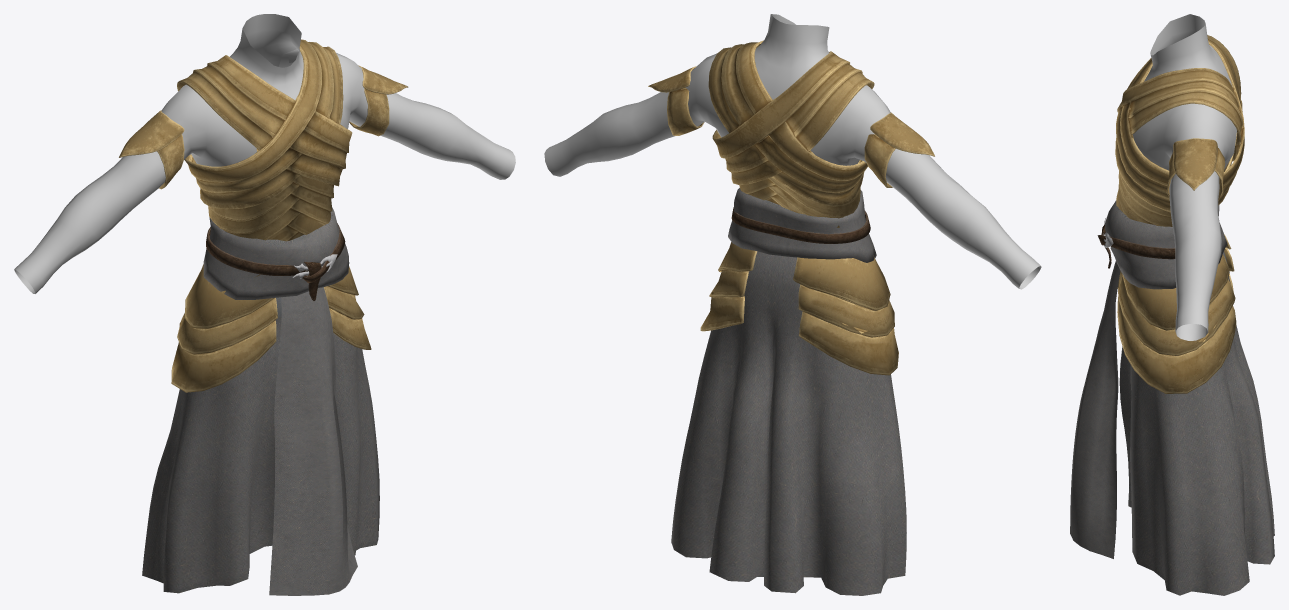
Rendered from rivendell_torso_infantry_tier2.fbx.
The picture shows the model from 3 angles, left to right: view 1: azimuth 30°, elevation 25°; view 2: azimuth 150°, elevation 25°; view 3: azimuth 270°, elevation 25°; orthographic projection. The views are drawn at different scales.
Visible parts, largest first — view 1: rivendell_torso_infantry_tier2.1, rivendell_torso_infantry_tier2.4, rivendell_torso_infantry_tier2.5, rivendell_torso_infantry_tier2.2, rivendell_torso_infantry_tier2.3, rivendell_torso_infantry_tier2.0; view 2: rivendell_torso_infantry_tier2.1, rivendell_torso_infantry_tier2.5, rivendell_torso_infantry_tier2.2, rivendell_torso_infantry_tier2.3, rivendell_torso_infantry_tier2.4, rivendell_torso_infantry_tier2.0; view 3: rivendell_torso_infantry_tier2.1, rivendell_torso_infantry_tier2.4, rivendell_torso_infantry_tier2.5, rivendell_torso_infantry_tier2.2, rivendell_torso_infantry_tier2.3, rivendell_torso_infantry_tier2.0.
Boxes of the visible parts, <box> form: rivendell_torso_infantry_tier2.1: <box>142,297,379,593</box>; rivendell_torso_infantry_tier2.4: <box>203,207,357,595</box>; rivendell_torso_infantry_tier2.5: <box>14,14,515,293</box>; rivendell_torso_infantry_tier2.2: <box>177,39,352,277</box>; rivendell_torso_infantry_tier2.3: <box>171,264,371,392</box>; rivendell_torso_infantry_tier2.0: <box>119,65,408,189</box>; rivendell_torso_infantry_tier2.1: <box>671,251,906,595</box>; rivendell_torso_infantry_tier2.5: <box>544,14,1041,289</box>; rivendell_torso_infantry_tier2.2: <box>708,40,874,227</box>; rivendell_torso_infantry_tier2.3: <box>700,242,898,375</box>; rivendell_torso_infantry_tier2.4: <box>728,188,876,262</box>; rivendell_torso_infantry_tier2.0: <box>648,66,934,187</box>; rivendell_torso_infantry_tier2.1: <box>1119,251,1274,595</box>; rivendell_torso_infantry_tier2.4: <box>1070,200,1227,558</box>; rivendell_torso_infantry_tier2.5: <box>1132,14,1236,340</box>; rivendell_torso_infantry_tier2.2: <box>1115,35,1244,226</box>; rivendell_torso_infantry_tier2.3: <box>1117,234,1236,393</box>; rivendell_torso_infantry_tier2.0: <box>1166,138,1225,201</box>.
Bounding box in the file's own units: 1.38 × 0.5129 × 1.46.
